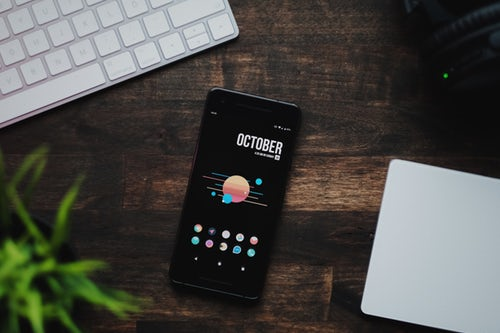phone: (165, 80, 301, 314)
